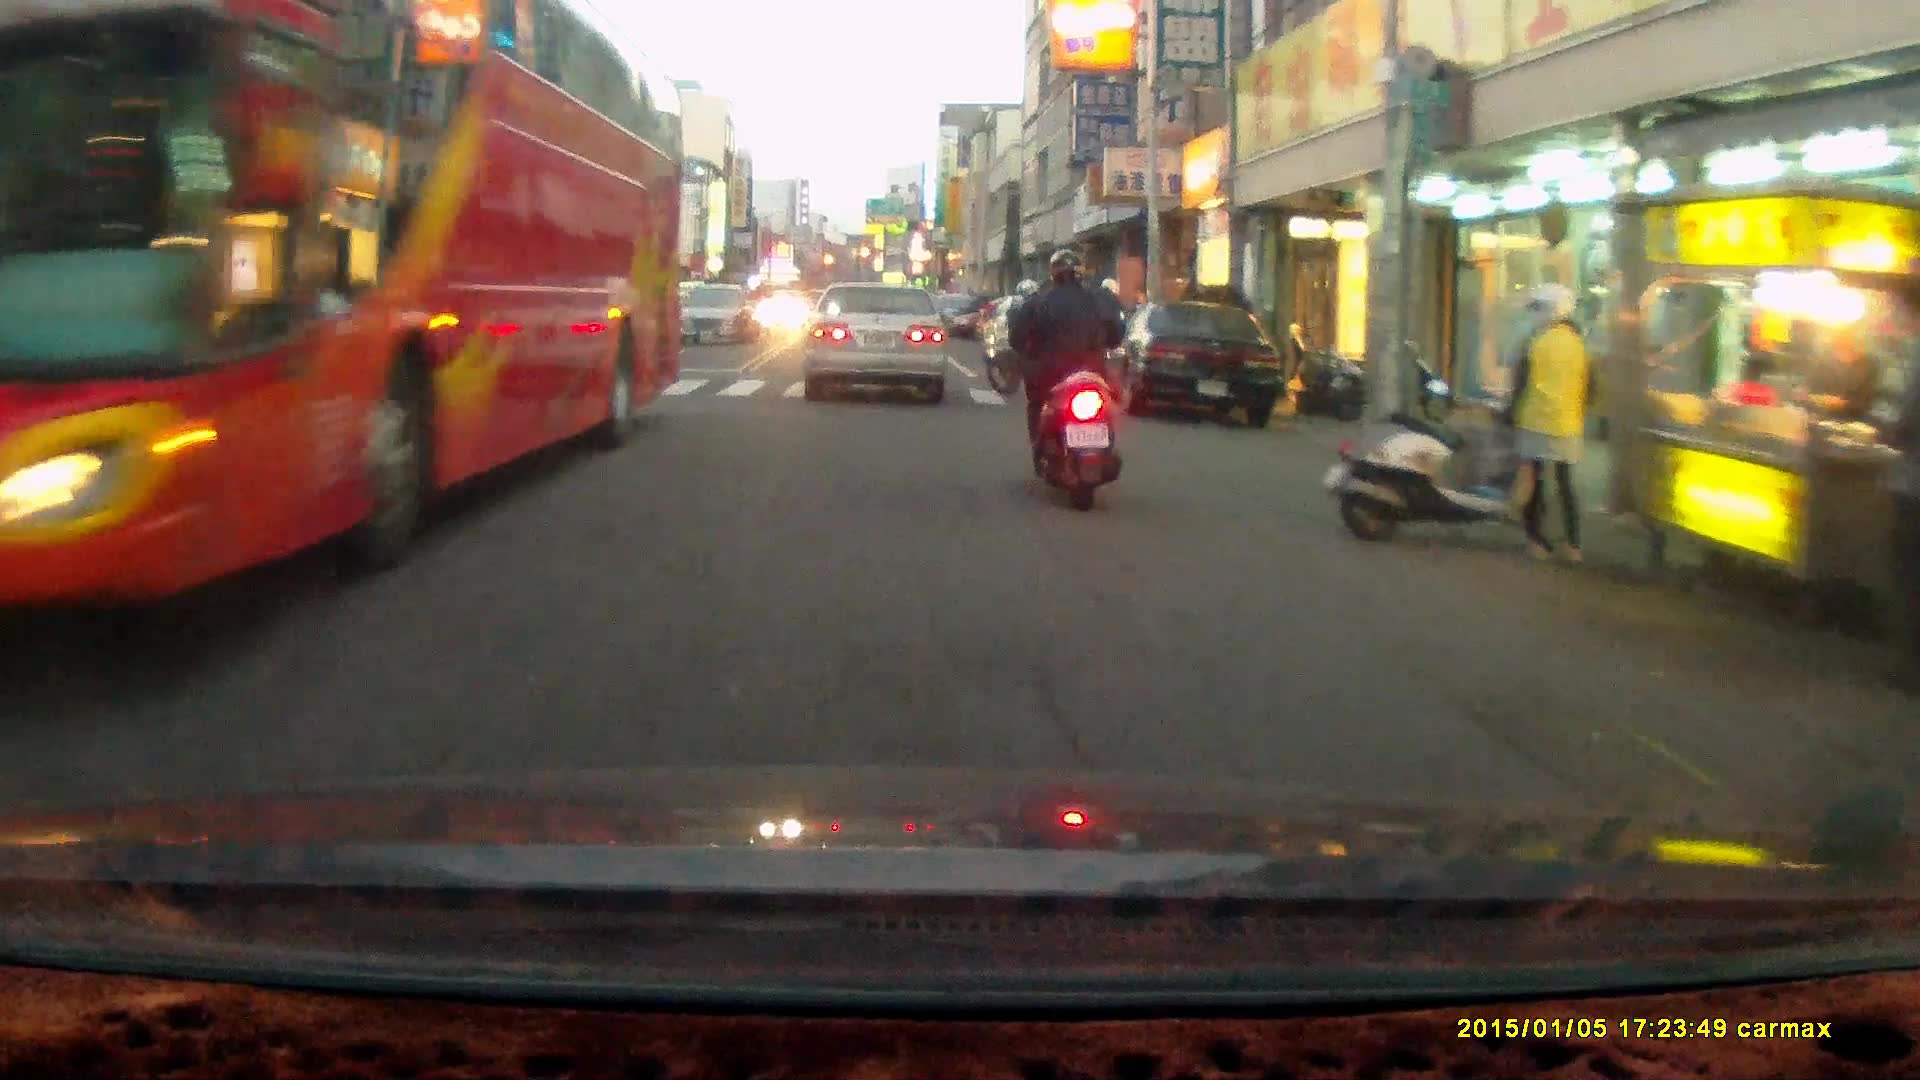pedestrian: (1825, 275, 1920, 697), (1506, 280, 1599, 570)
rider: (999, 248, 1123, 514), (988, 274, 1061, 398)
vehicle: (1, 17, 695, 608), (1099, 300, 1295, 428), (804, 280, 951, 403), (681, 285, 757, 351)
